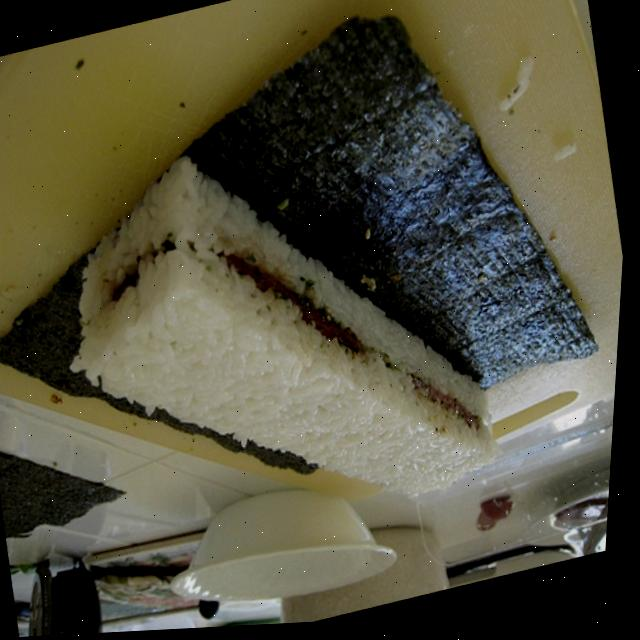寿司卷物: (0, 0, 639, 607)
